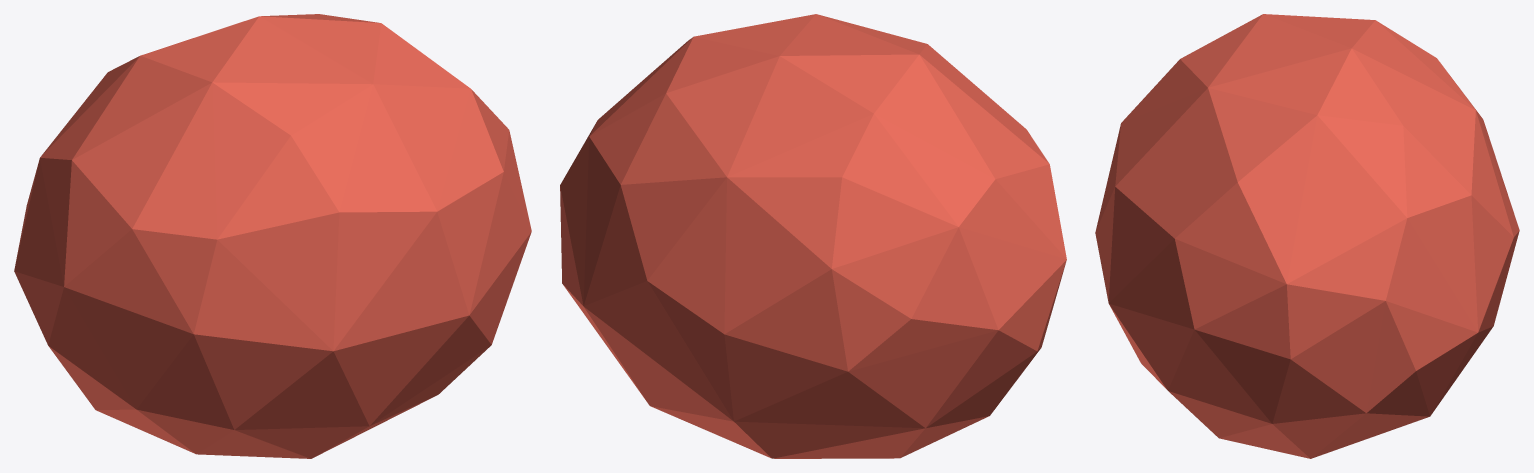
The model's file is WASP-103b.fbx.
3 renders of one model, left to right at view 1: azimuth 30°, elevation 25°; view 2: azimuth 150°, elevation 25°; view 3: azimuth 270°, elevation 25°, orthographic. The views are drawn at different scales.
Visible parts, largest first — view 1: WASP-103b_gas; view 2: WASP-103b_gas; view 3: WASP-103b_gas.
Boxes of the visible parts, x1,y1,x2,y2 form: WASP-103b_gas: (14, 14, 531, 458); WASP-103b_gas: (560, 14, 1066, 458); WASP-103b_gas: (1095, 14, 1519, 458).
Bounding box in the file's own units: 255 × 210 × 211.
